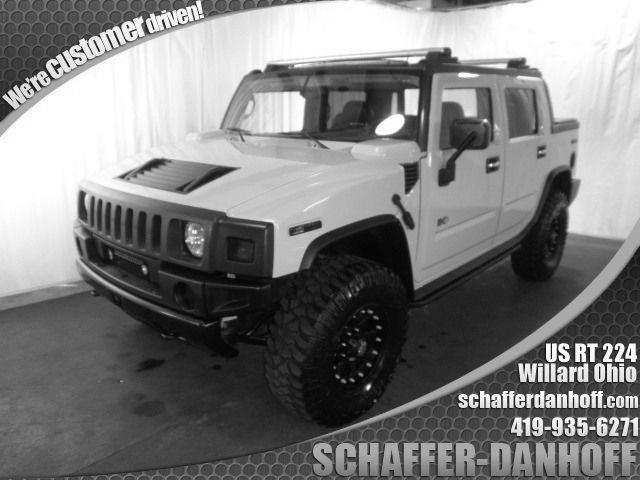car: (75, 47, 582, 432)
